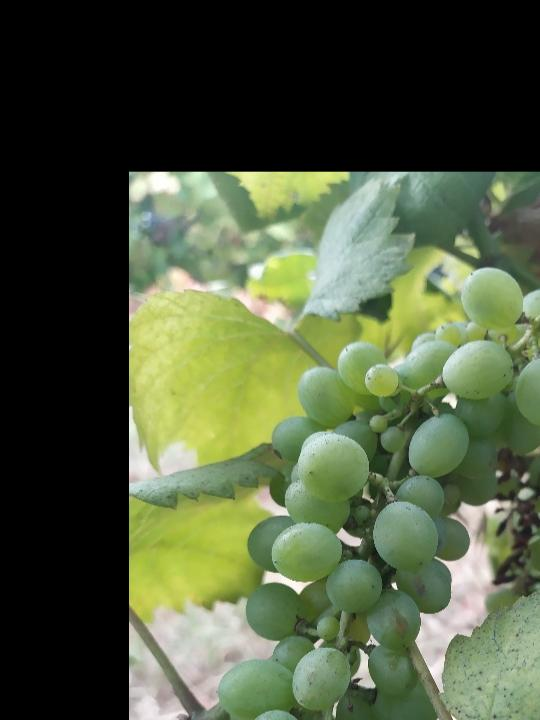grape: (214, 253, 540, 720)
